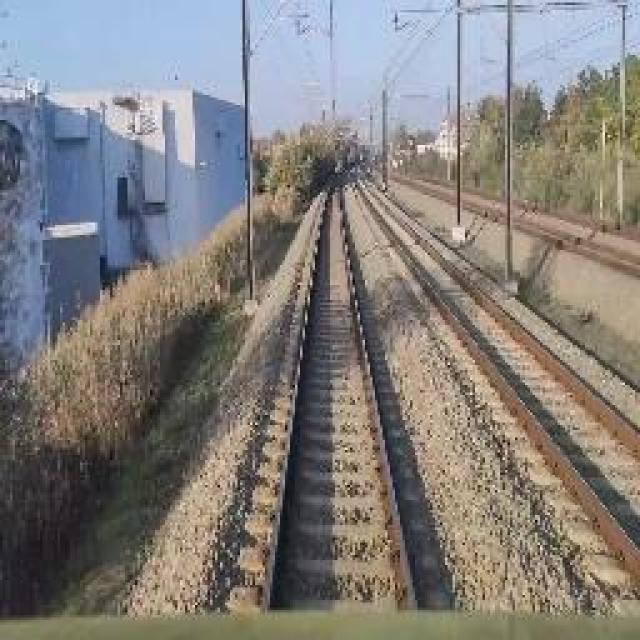rail: (350, 172, 640, 611), (229, 162, 438, 620)
